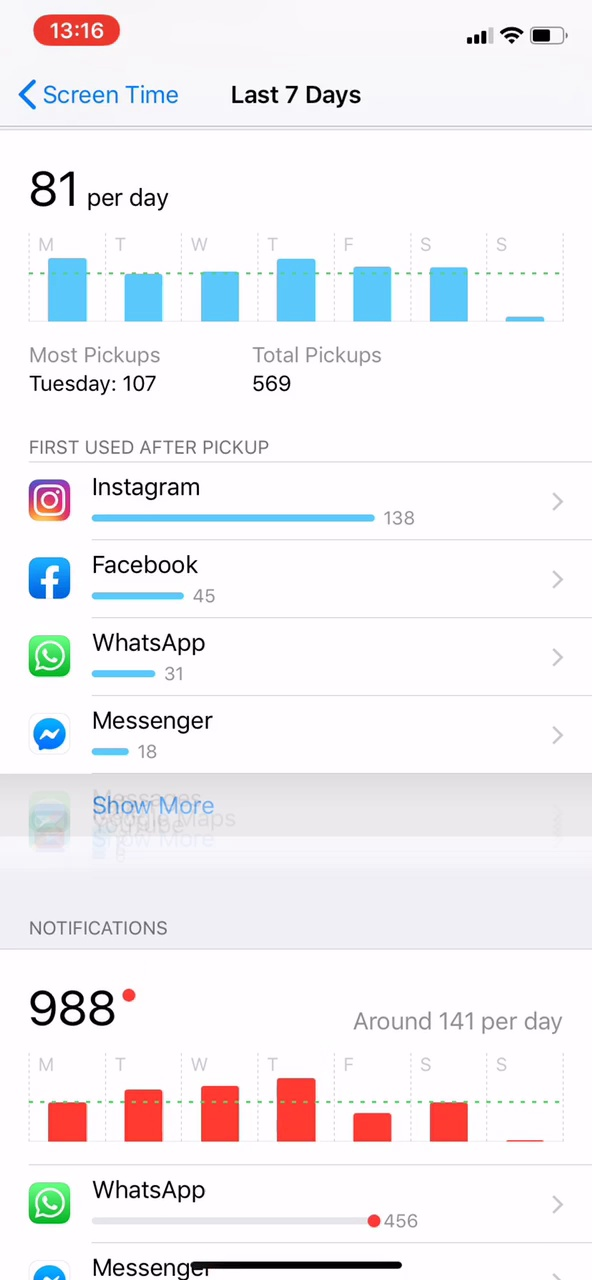not_app: (14, 1161, 453, 1235)
not_over: (14, 885, 209, 1035)
pick_app: (18, 464, 436, 533), (11, 627, 253, 691), (15, 550, 264, 608), (15, 708, 265, 763)
pick_over: (20, 341, 440, 413)
week: (213, 75, 374, 118)
